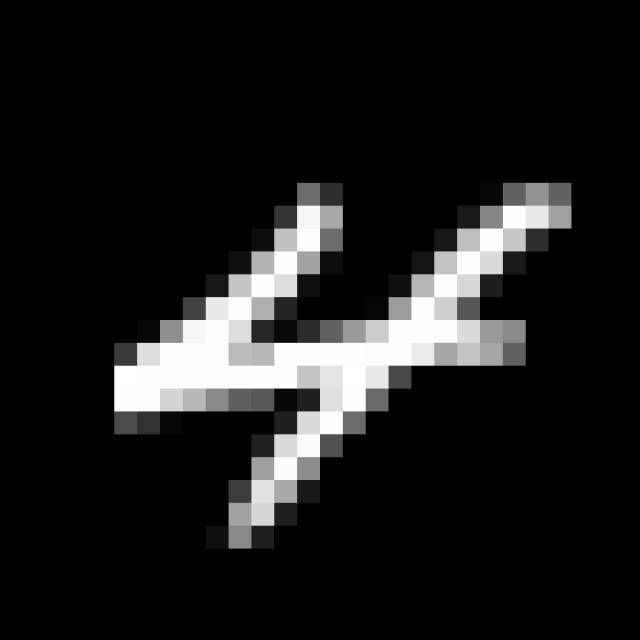four -4-: (94, 165, 588, 554)
